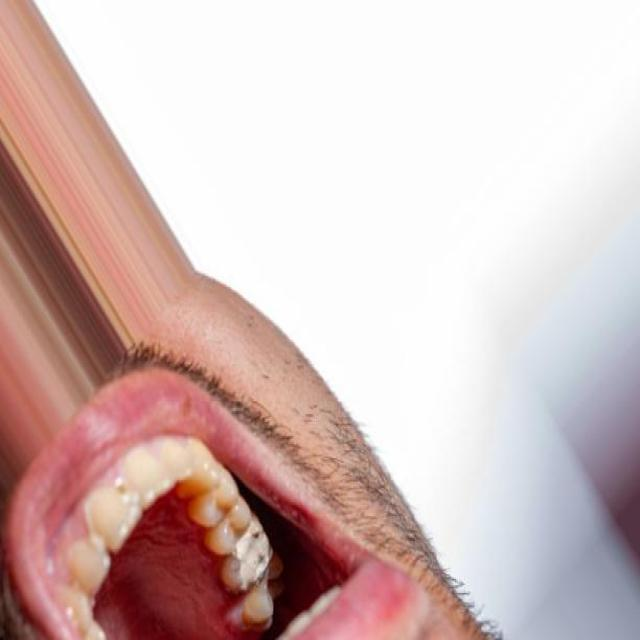caries: (230, 519, 279, 590)
